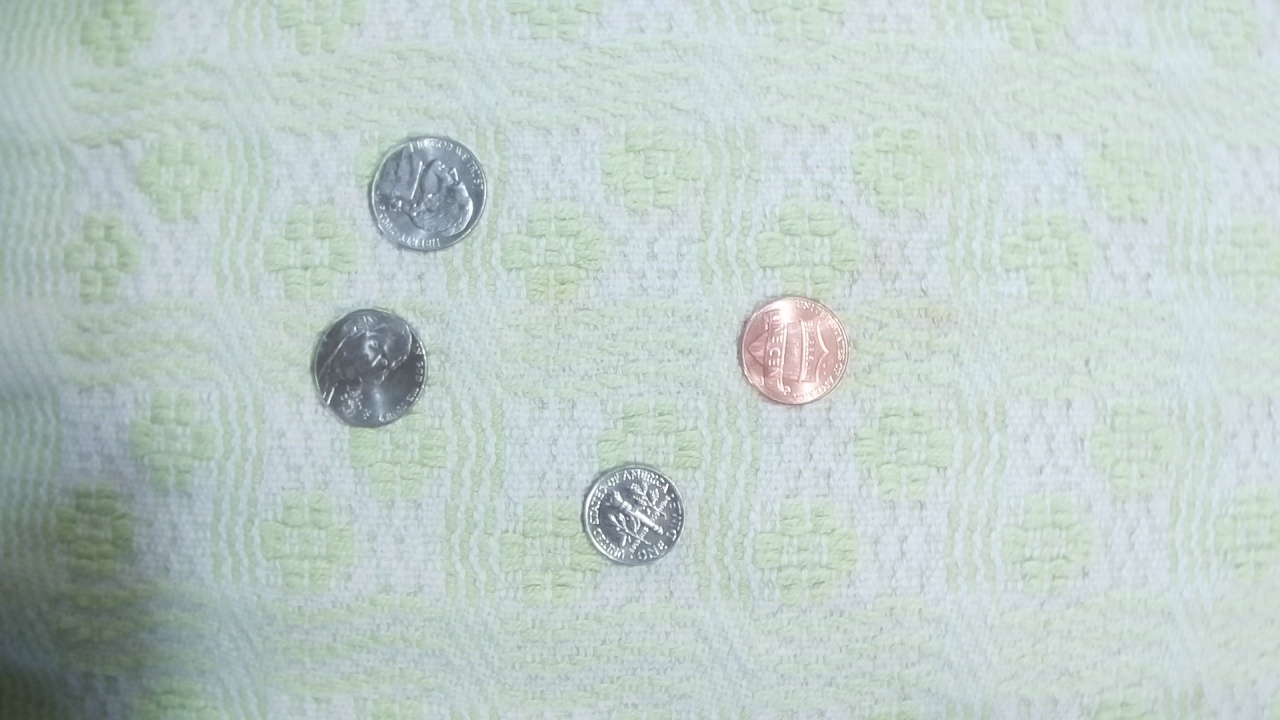dime: (581, 461, 687, 568)
nickel: (309, 307, 428, 431), (369, 134, 488, 254)
penny: (737, 295, 849, 407)
